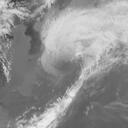cyclone: (42, 21, 103, 76)
